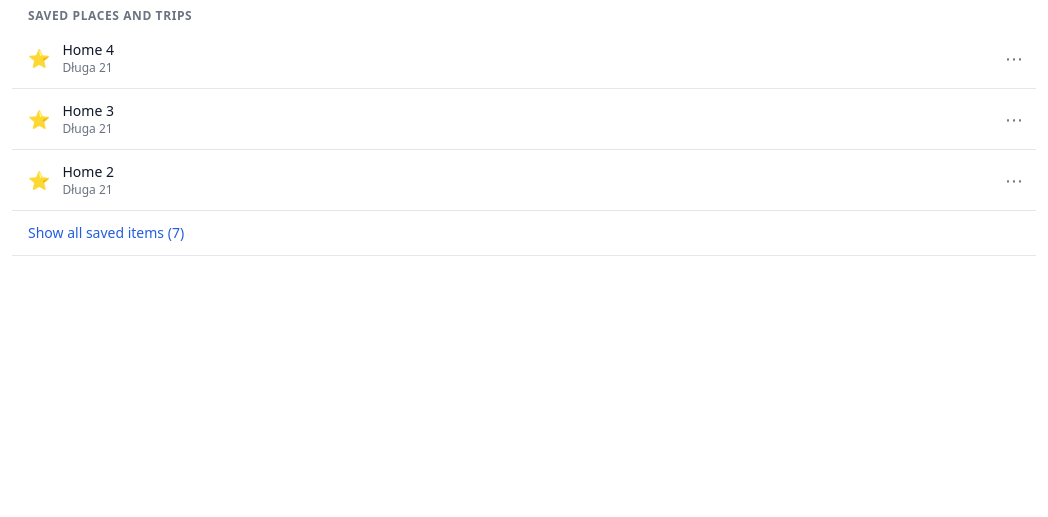
Test case: searchable saved places and trips › bounds the empty-query preview and exposes the full collection
Expected: the number of list items is 3, [12, 28, 1036, 89]; [12, 89, 1036, 150]; [12, 150, 1036, 211]
Step 1. Click the button "Show all saved items (7)" → (106, 232), box [12, 211, 1036, 255]
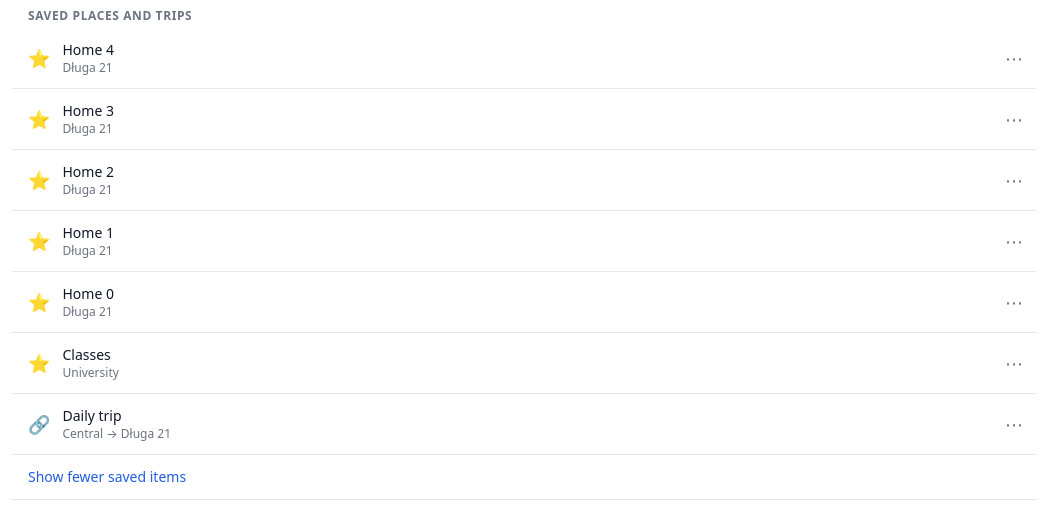
Result: the number of list items is 7
